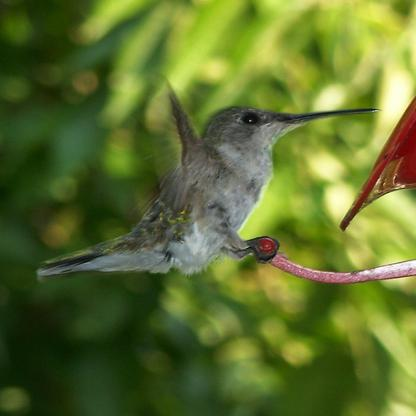bird: (36, 89, 380, 278)
